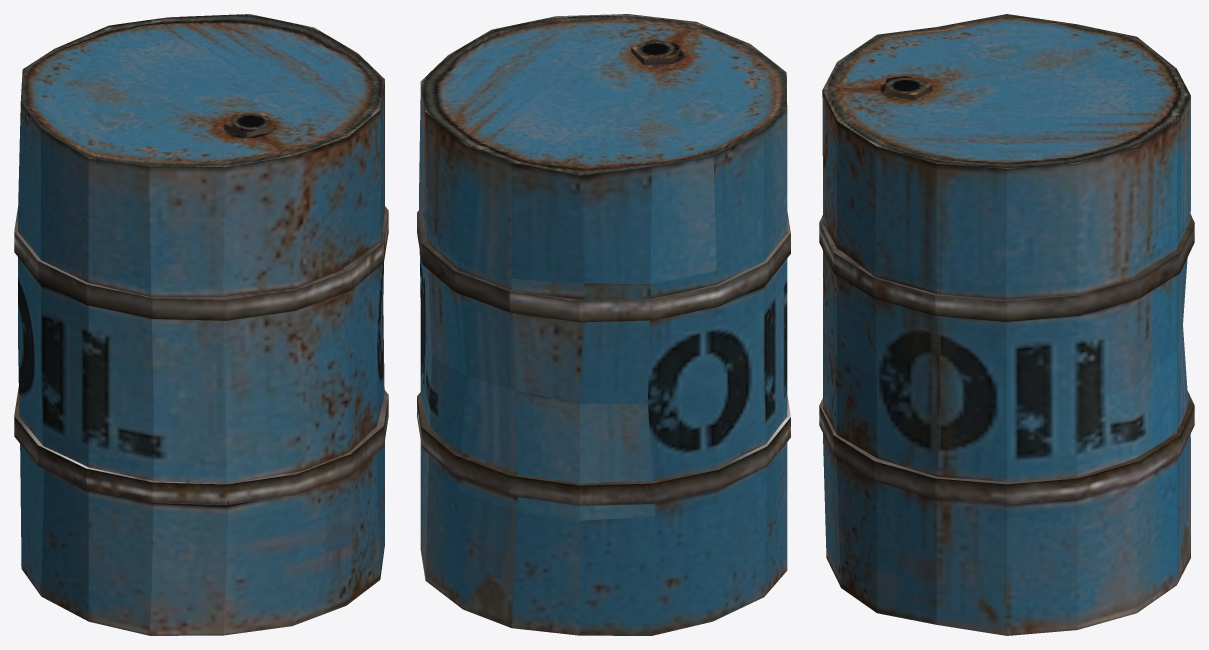
Rendered from OilBarrel.obj.
3 views of the same model, side by side, from view 1: azimuth 30°, elevation 25°; view 2: azimuth 150°, elevation 25°; view 3: azimuth 270°, elevation 25° (orthographic).
Parts seen in each view (by area): view 1: Cylinder, Cylinder.001, Cylinder.002, Cylinder.003; view 2: Cylinder, Cylinder.002, Cylinder.001, Cylinder.003; view 3: Cylinder, Cylinder.002, Cylinder.001, Cylinder.003.
Part boxes in pixels (box(x1,y1,x2,y2)): Cylinder: box(18, 14, 384, 635); Cylinder.001: box(14, 206, 388, 320); Cylinder.002: box(14, 386, 388, 504); Cylinder.003: box(224, 112, 273, 137); Cylinder: box(419, 14, 787, 635); Cylinder.002: box(417, 392, 790, 506); Cylinder.001: box(417, 210, 790, 322); Cylinder.003: box(631, 39, 680, 64); Cylinder: box(822, 14, 1190, 635); Cylinder.002: box(819, 391, 1194, 504); Cylinder.001: box(819, 214, 1194, 321); Cylinder.003: box(886, 74, 932, 100).
Bounding box in the file's own units: 2.04 × 2.83 × 2.04.
1 material, 1 textured.
